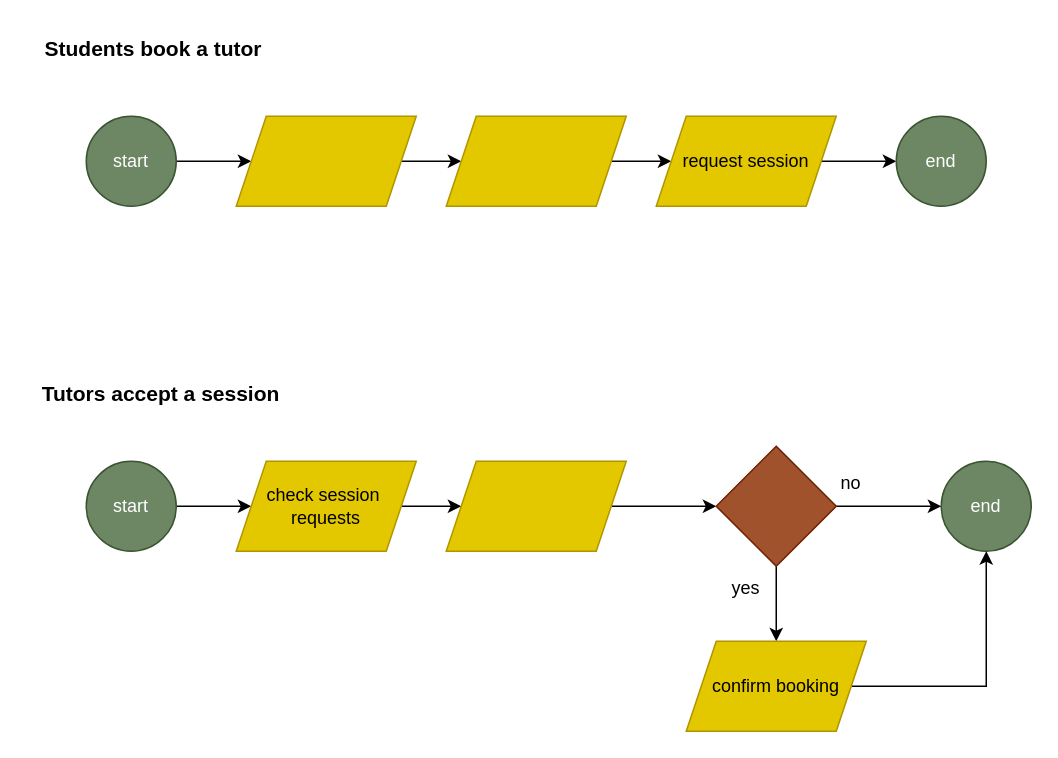
Image size: 1058x758. Some labels were removed from this diagram. The box of each missing label's shape, as (x1, y1, x2, y2) in pixels:
accept?: (715, 445, 836, 566)
browse tutor list: (235, 115, 416, 206)
check request details: (445, 460, 626, 551)
click on tutor profile: (445, 115, 626, 206)
